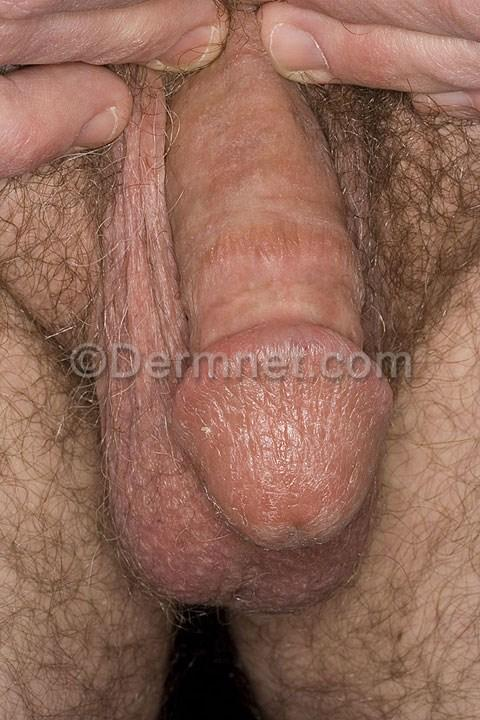Eczema: (166, 394, 227, 474), (303, 340, 363, 415), (258, 336, 318, 409), (205, 361, 271, 425), (215, 472, 291, 527), (340, 360, 389, 427), (238, 408, 286, 471), (300, 415, 342, 471), (296, 488, 337, 538), (334, 460, 371, 510), (347, 416, 384, 464), (295, 468, 335, 507)
